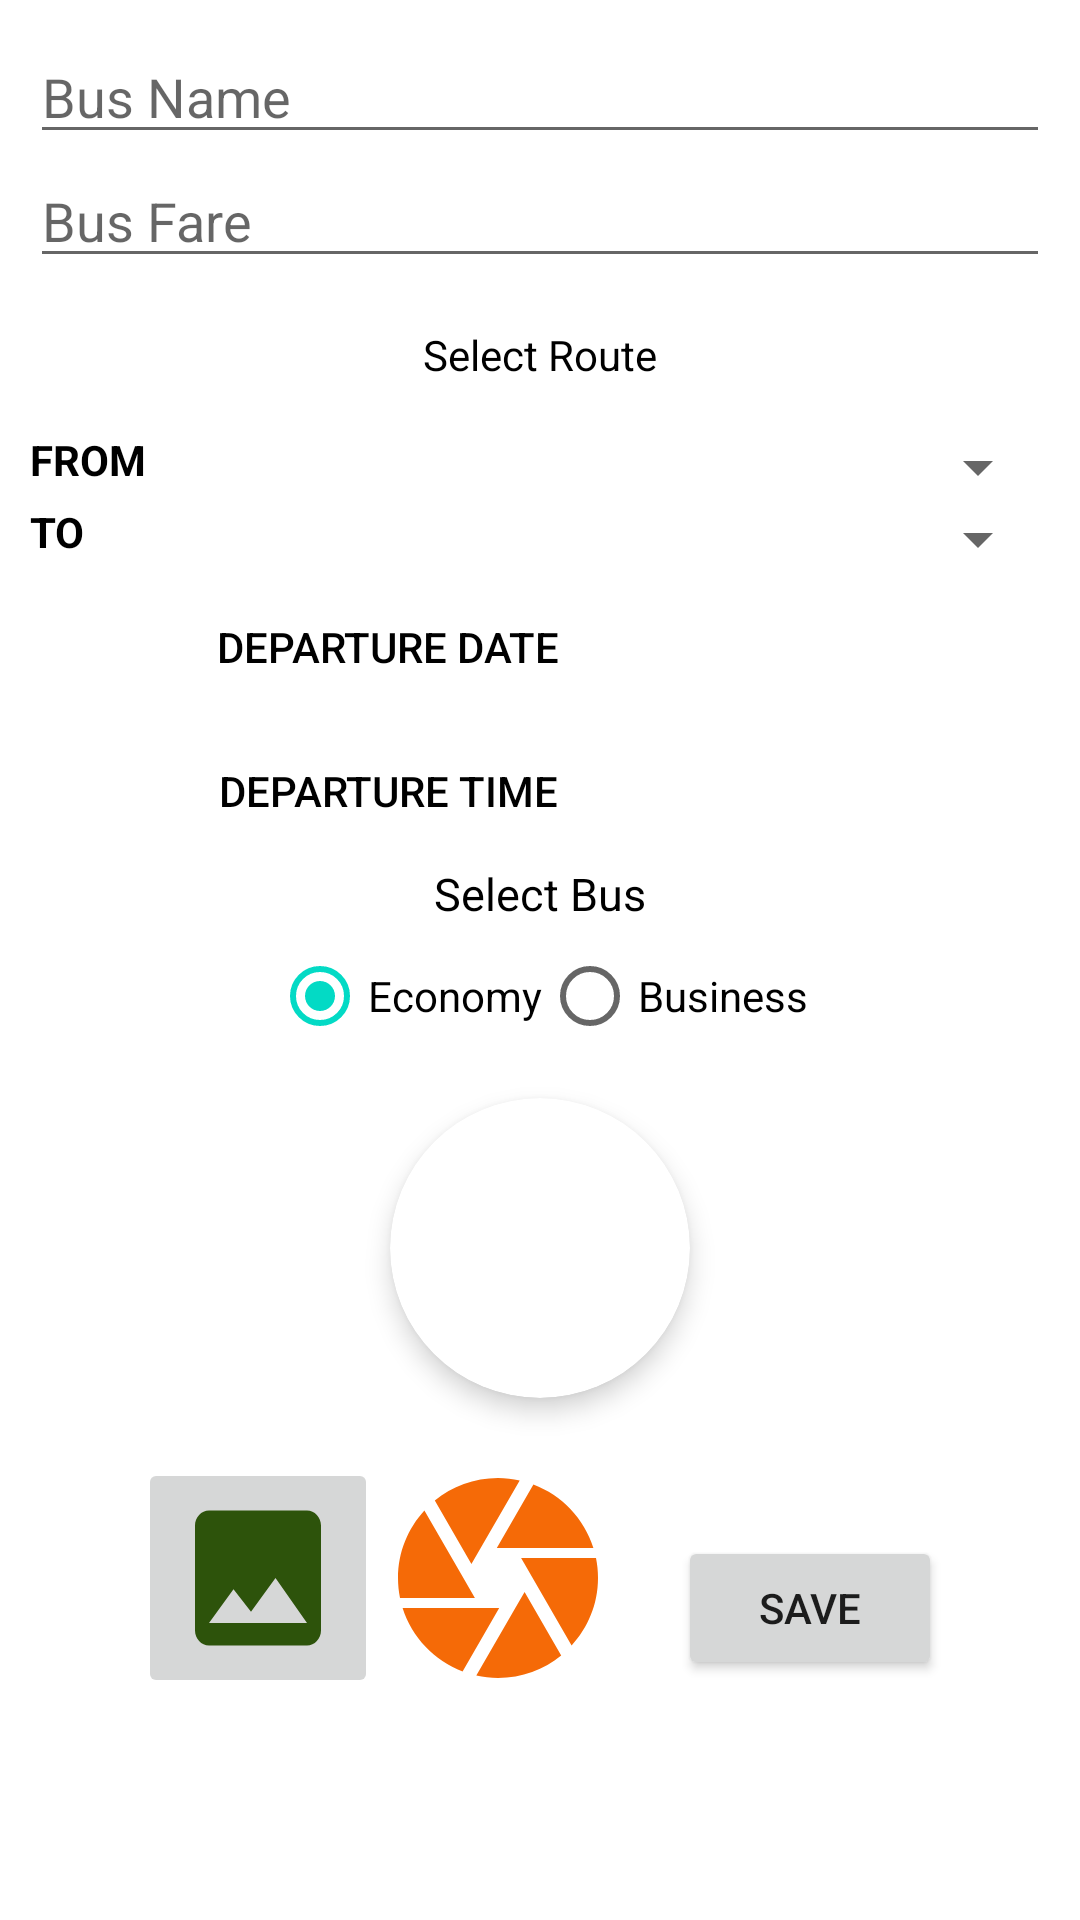

Icon bounding boxes for this 1080px x 1920px phone screenshot, format [x1,y1,x2,y2]:
camera: [398,1478,598,1678]
